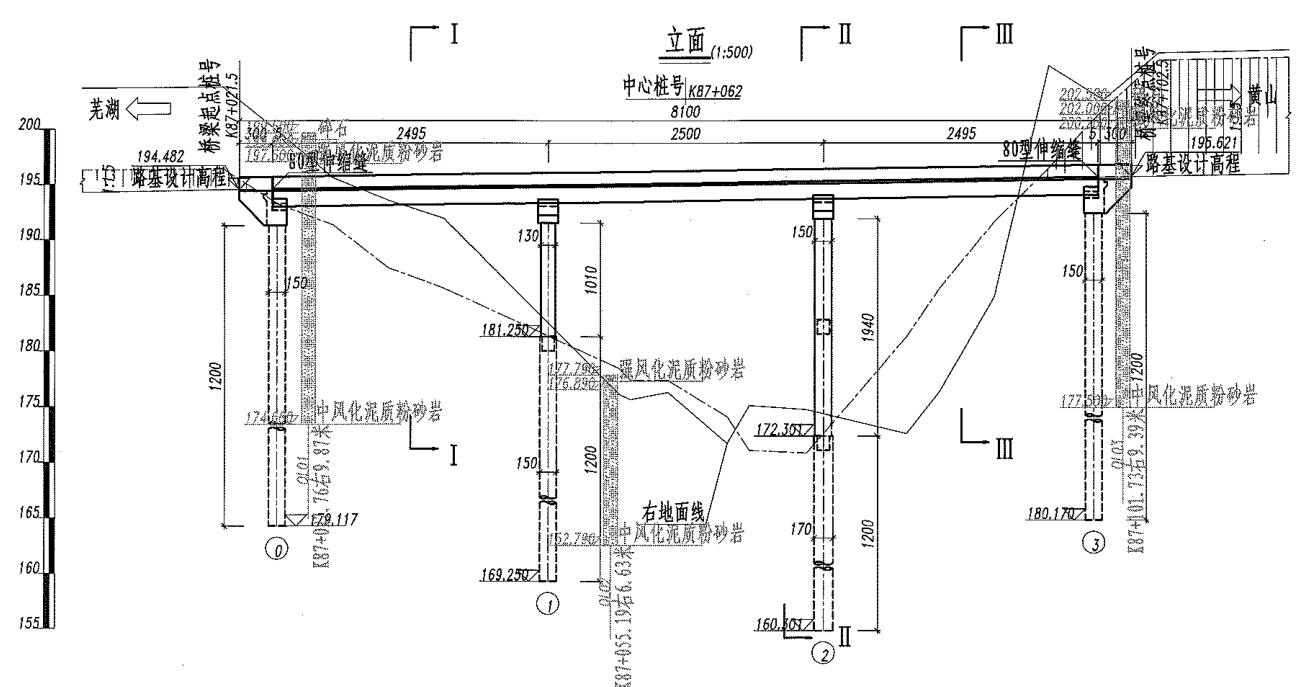C: (733, 188, 865, 673), (451, 192, 591, 624), (1020, 176, 1121, 560), (239, 187, 306, 566)
